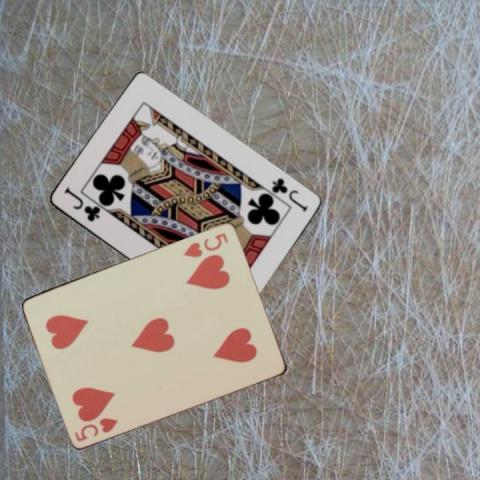5h: (180, 229, 230, 259), (71, 414, 120, 443)
Jc: (60, 185, 101, 223), (268, 175, 309, 213)
